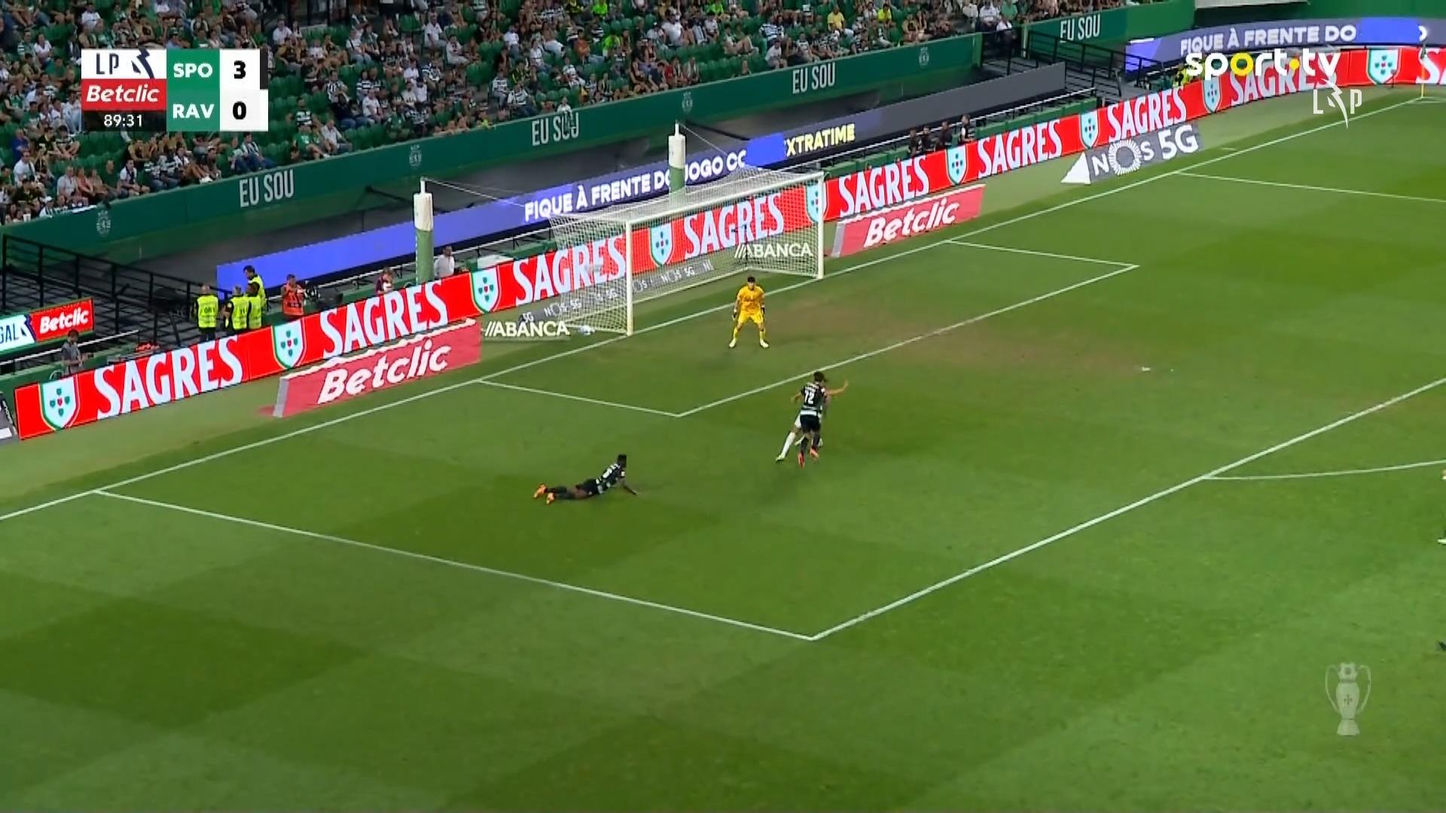goalkeeper: (727, 274, 770, 349)
player: (790, 367, 848, 467), (532, 452, 637, 506), (773, 370, 826, 468)
